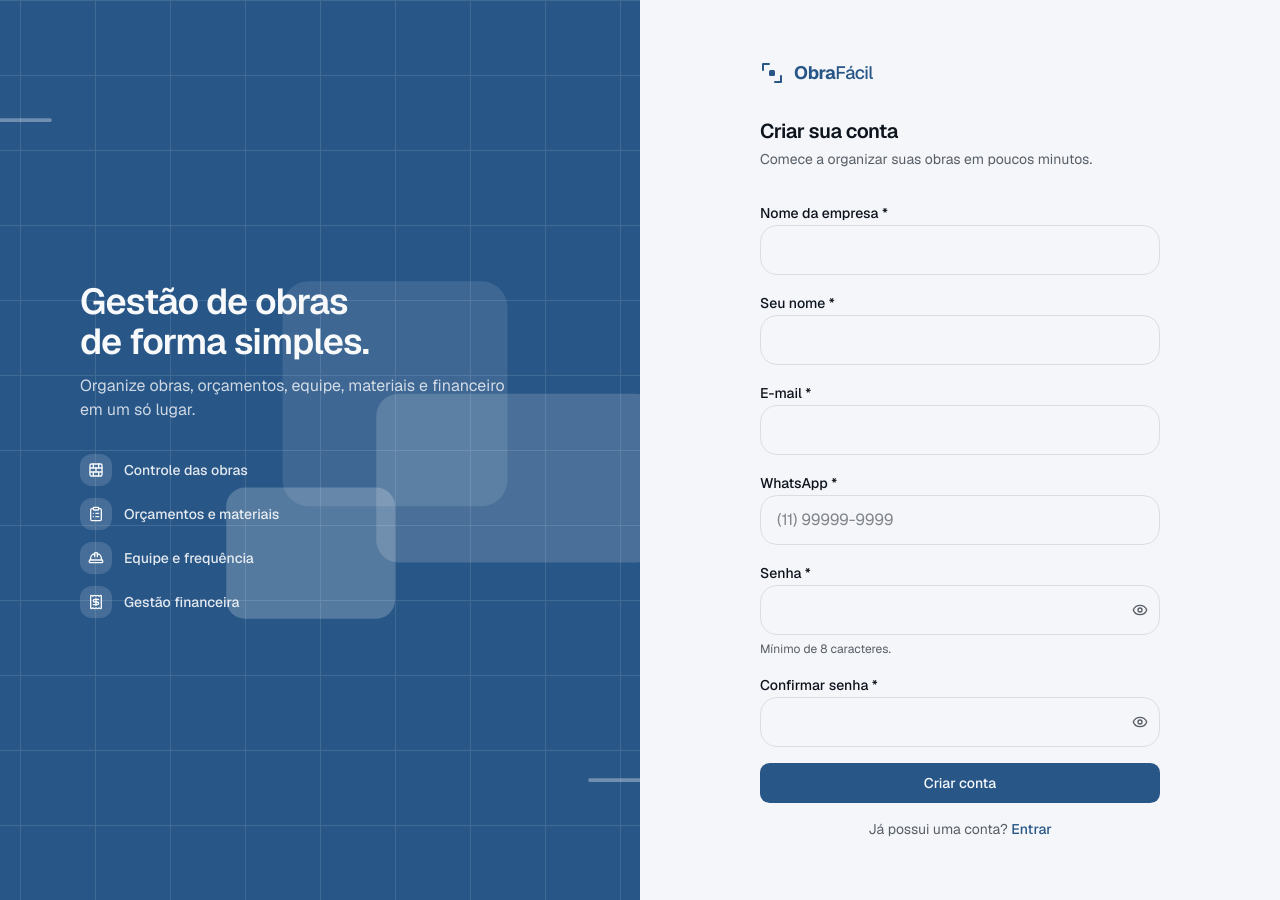
Scenario: RegisterForm › password confirmation visibility toggle › A8: aria-label reflects each field's own visibility state
Expected: the field labelled "Nome da empresa *" is shown, [760,225,1160,275]
Click the button named "Mostrar senha". click: coordinates (1140, 610)
box: [1132,602,1148,618]
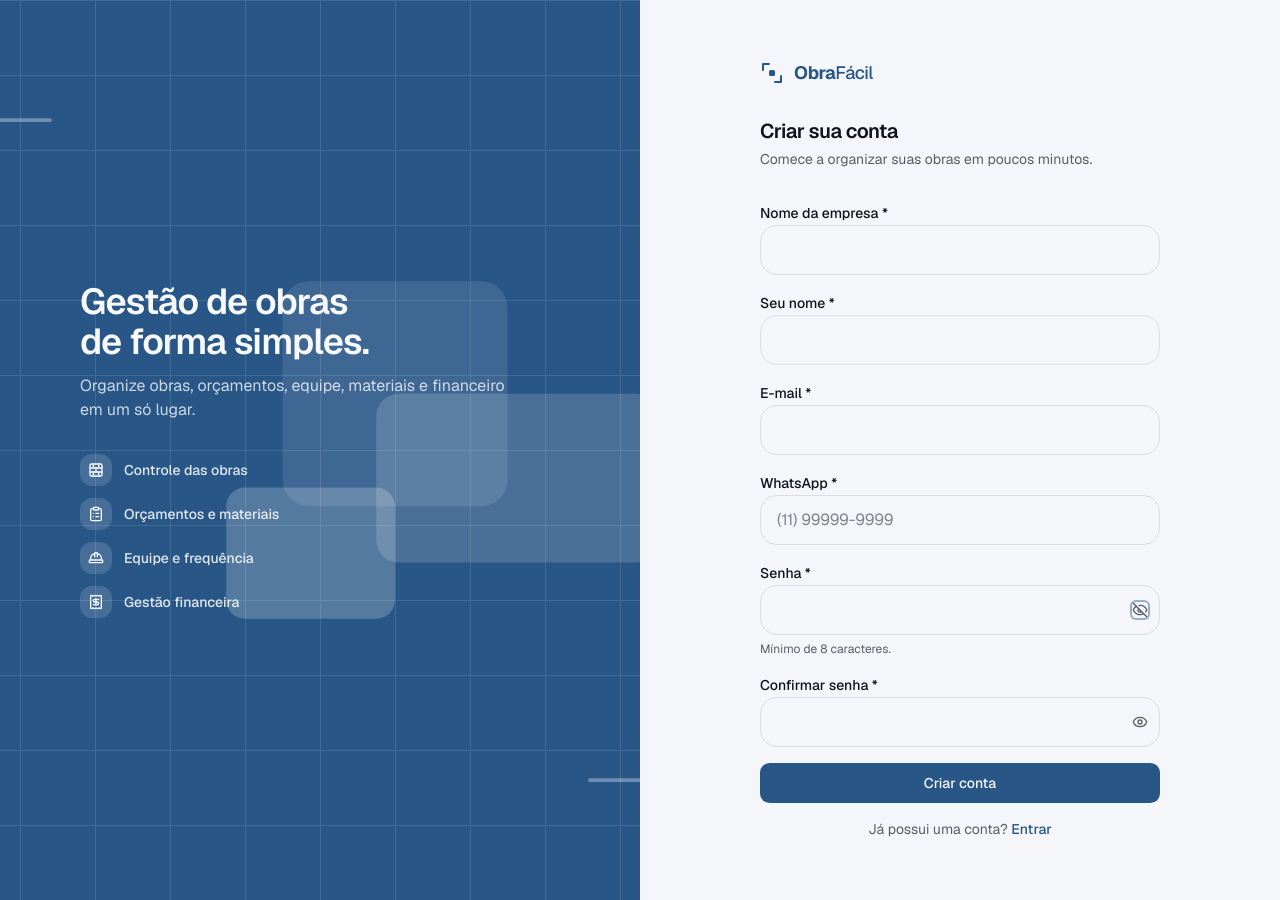
Now the button named "Ocultar senha" is shown, box [1132,602,1148,618]
Click the button named "Mostrar confirmação de senha". click: coordinates (1140, 722)
box: [1132,714,1148,730]
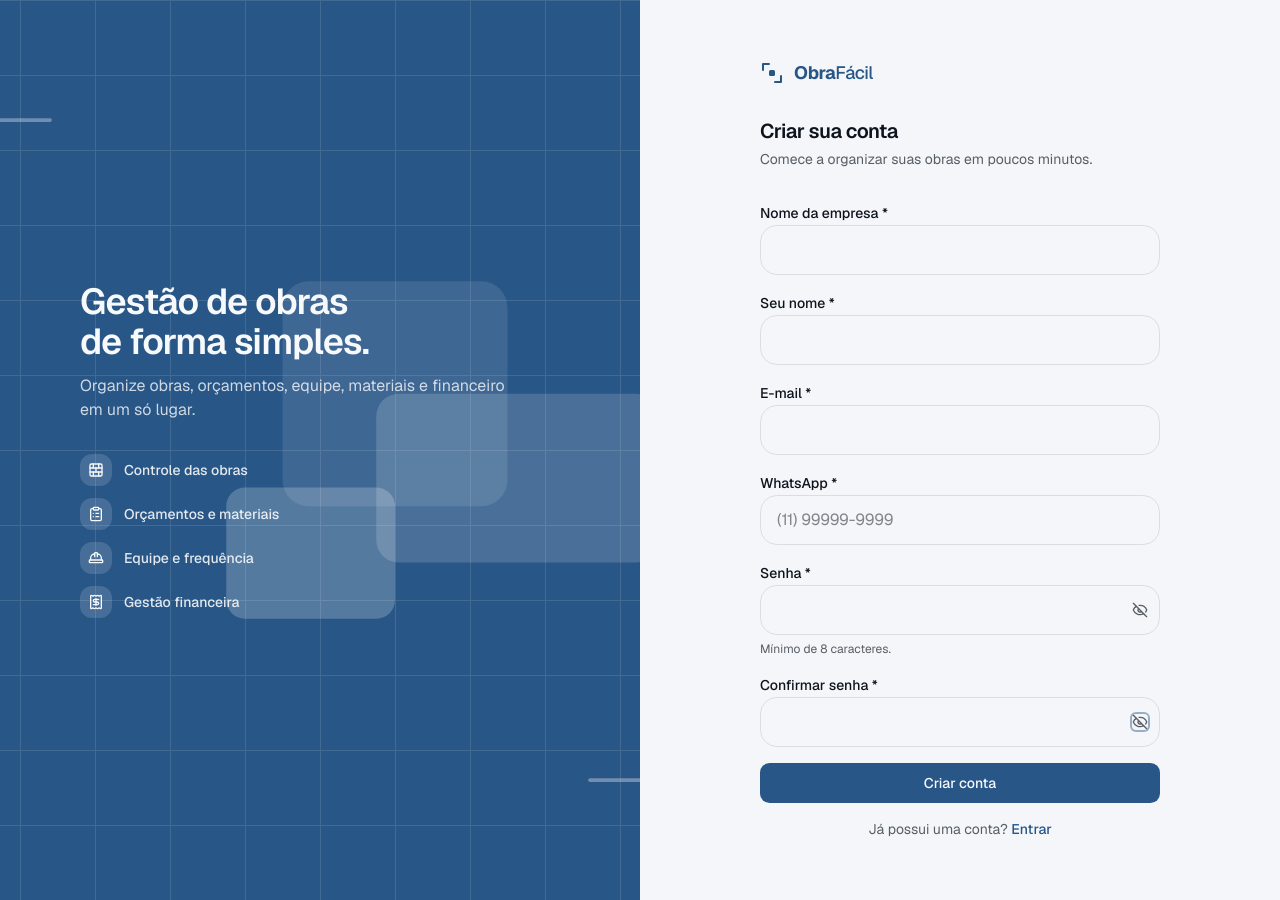
Now the button named "Ocultar senha" is shown, box [1132,602,1148,618]
Now the button named "Ocultar confirmação de senha" is shown, box [1132,714,1148,730]
